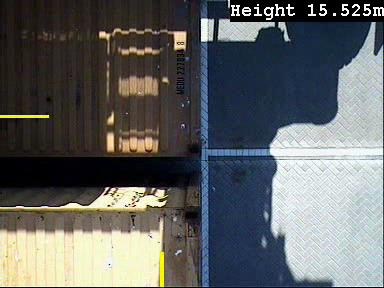groundmarker_2: (177, 225, 244, 269), (174, 87, 242, 130)
